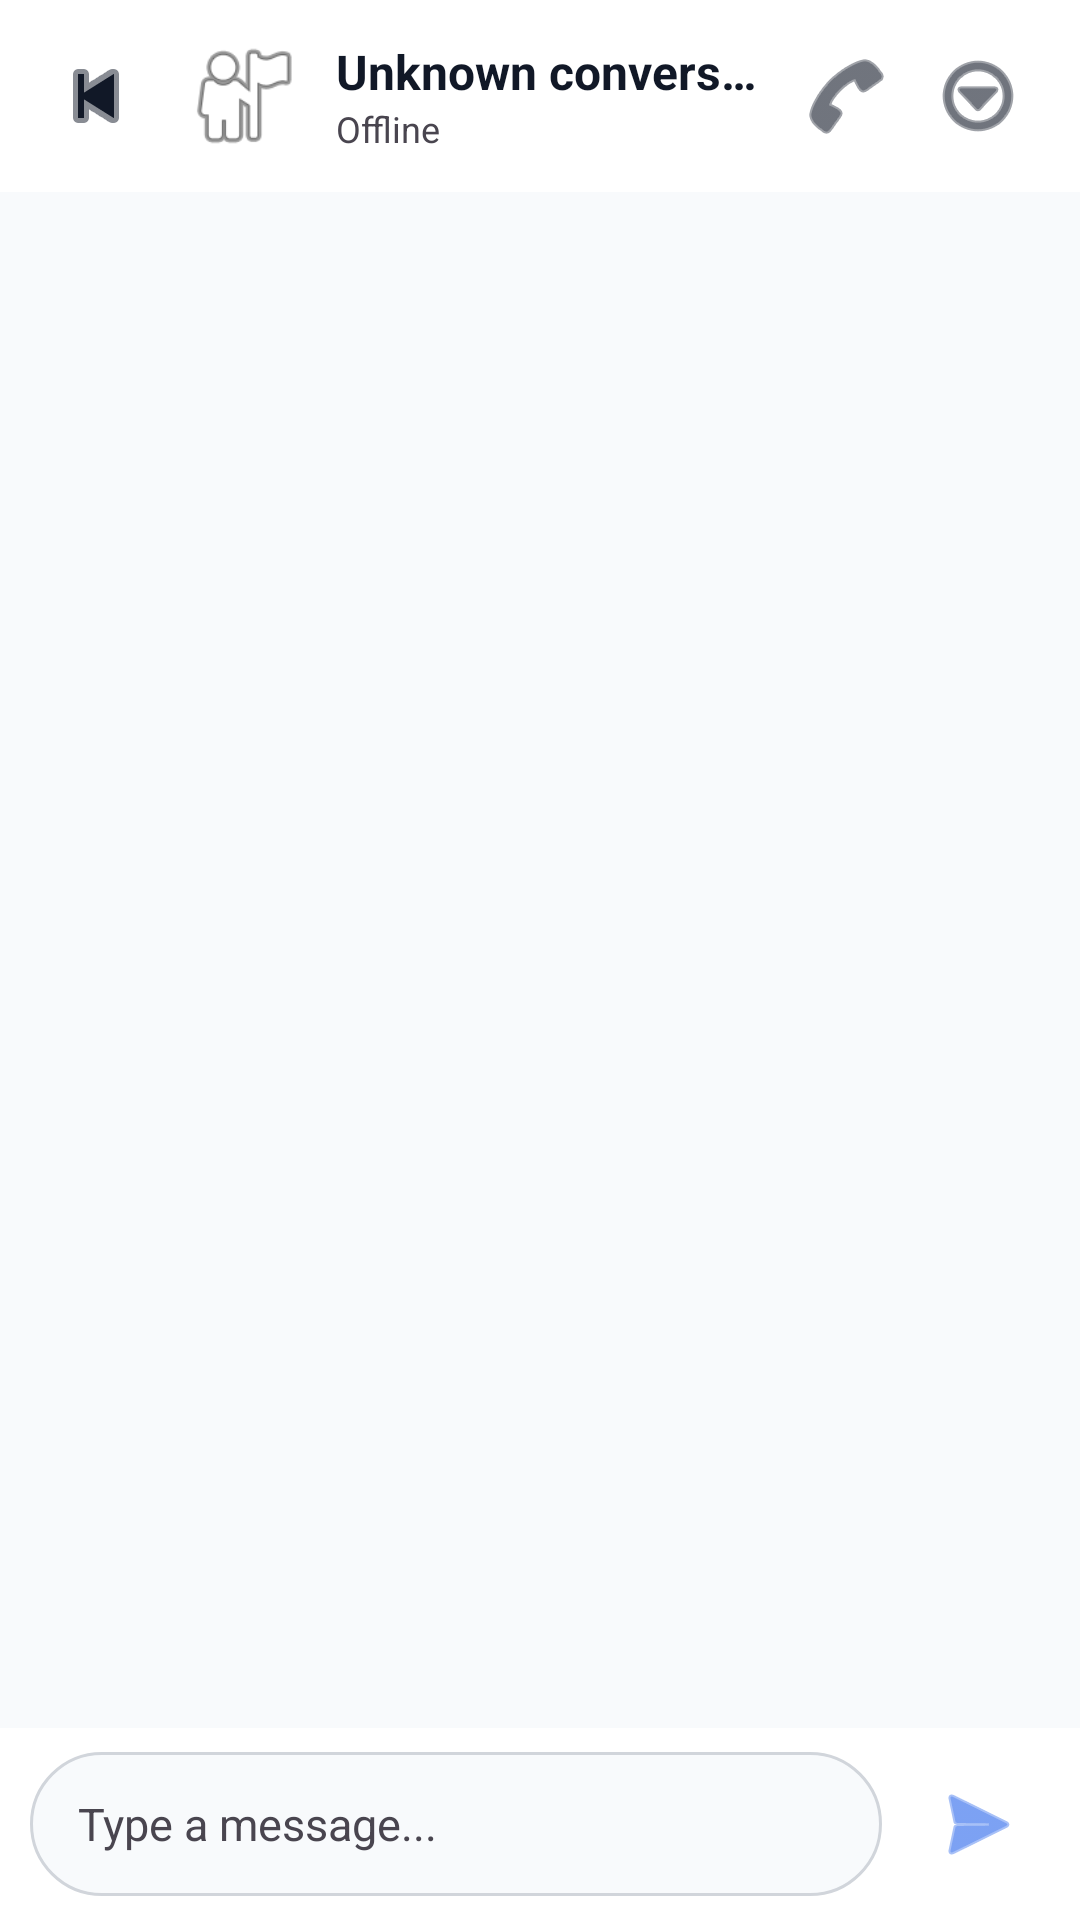

Icon click points for this 1080px×1920px phone screenshot, format point (x, y):
Back: point (96, 96)
Chat options: point (978, 96)
Conversation profile picture: point (244, 96)
Send message: point (979, 1824)
Voice call: point (846, 96)
